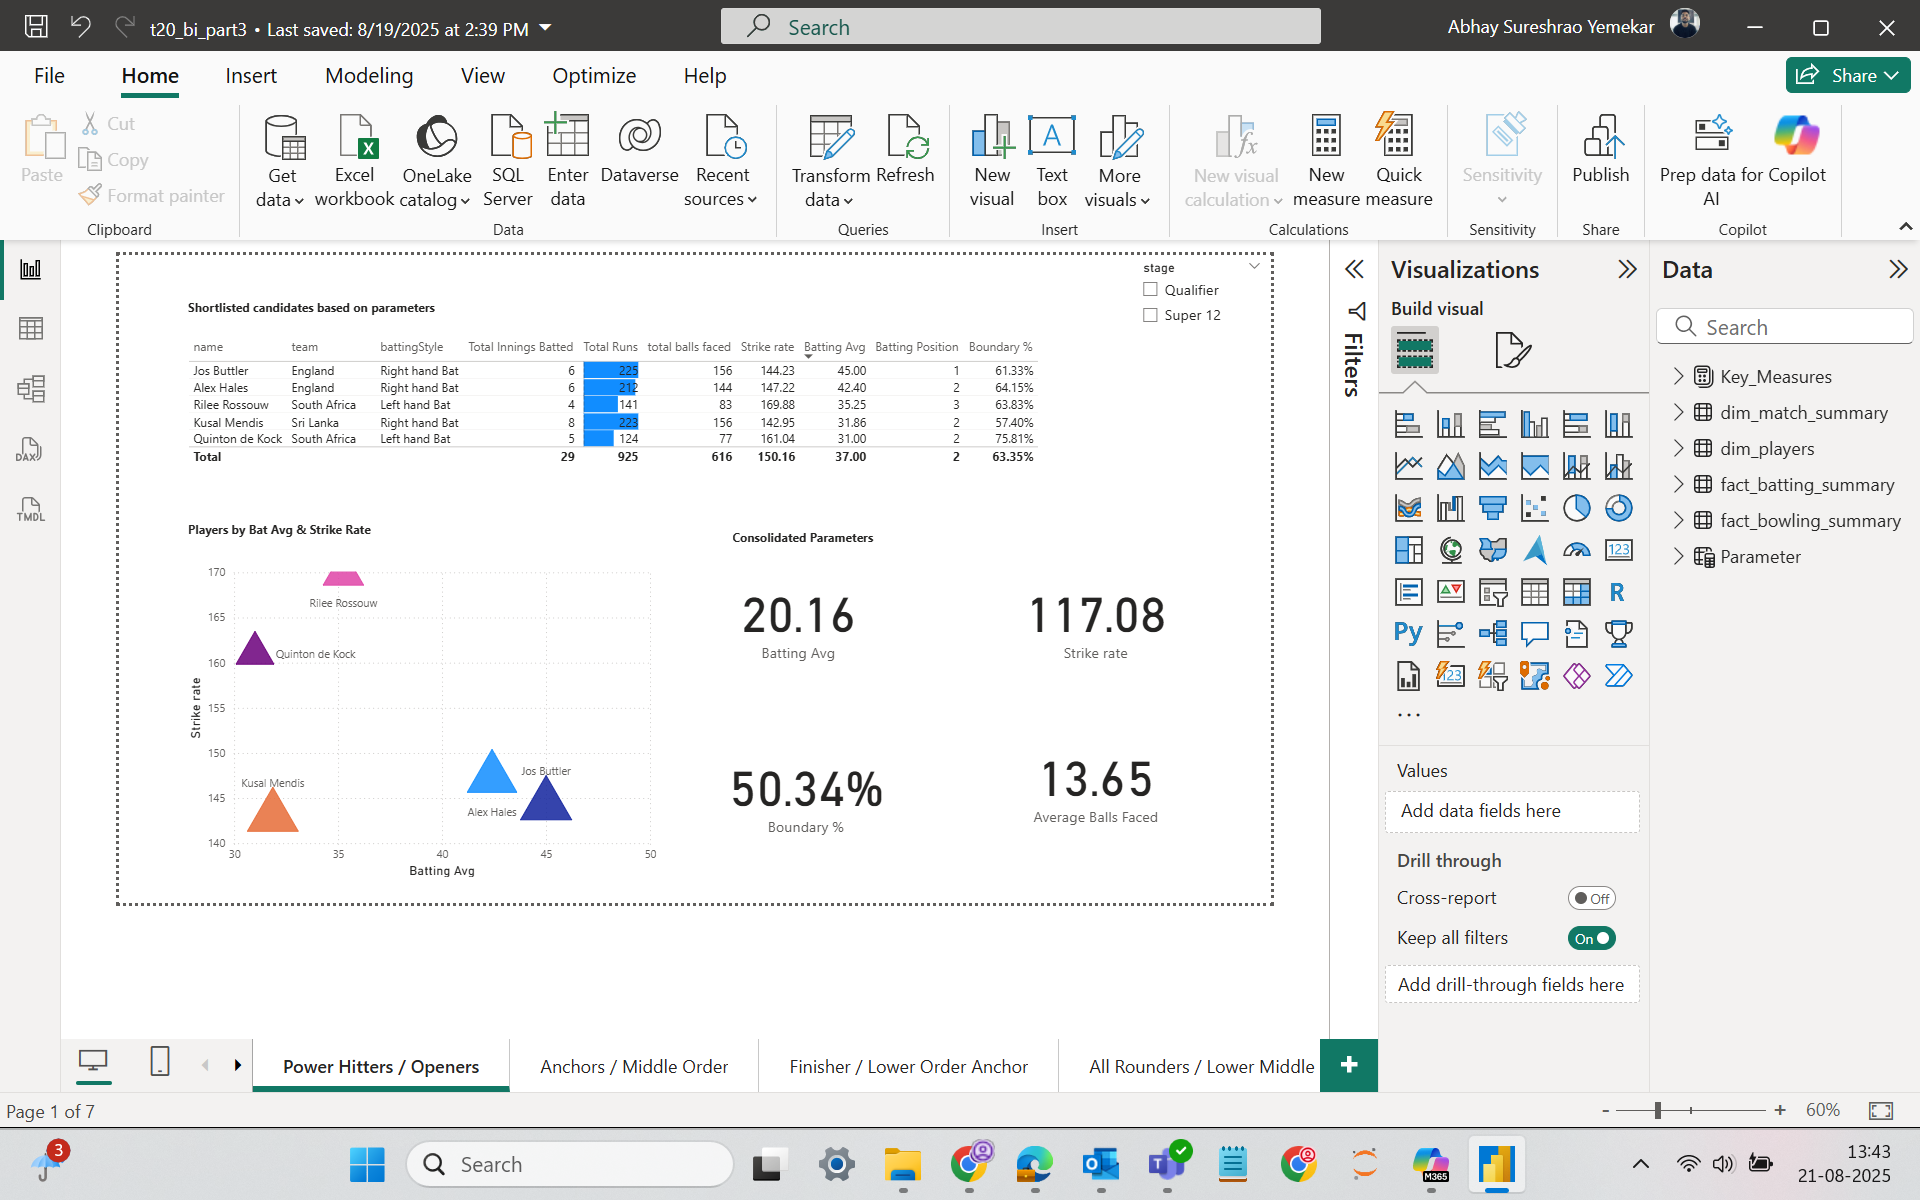

The page's visual inventory and layout, read from the dashboard file:
{"tool":"powerbi","page":{"name":"New Anchors / Middle Order","canvas":[1280,720],"ordinal":1},"visuals":[{"type":"shape","box":[0,66,1280,654],"z":0},{"type":"card","fields":{"Values":["Key_Measures.Strike rate"]},"box":[866.4,88.6,93,60],"z":0,"group":"g2"},{"type":"group","id":"g1","title":"Group 2","box":[83.8,116.2,260,31.2],"z":0,"group":"g3"},{"type":"shape","box":[83.8,116.2,260,31.2],"z":0,"group":"g1"},{"type":"card","fields":{"Values":["Key_Measures.Bat Avg"]},"box":[767.4,88.6,92,60],"z":1000,"group":"g2"},{"type":"image","box":[38,114,44,36],"z":1000,"group":"g3"},{"type":"shape","box":[20,414.4,832.2,283.3],"z":1000},{"type":"actionButton","box":[734,42.6,111,42],"z":2000},{"type":"card","fields":{"Values":["Key_Measures.Avergate Balls Faced"]},"box":[1063,90.3,110,56.7],"z":2000,"group":"g2"},{"type":"actionButton","box":[596,42.6,144,42],"z":3000},{"type":"card","fields":{"Values":["Key_Measures.Boundary %"]},"box":[965.4,88.6,101,60],"z":3000,"group":"g2"},{"type":"actionButton","box":[838,42.6,101,42],"z":4000},{"type":"actionButton","box":[932,42.6,115,42],"z":5000},{"type":"actionButton","box":[1039,42.6,171,42],"z":6000},{"type":"image","box":[1220,3,48,59],"z":7000},{"type":"areaChart","fields":{"Category":["dim_match_summary.Match_Date.Variation.Date Hierarchy.Day"],"Y":["Key_Measures.Boundary %"]},"box":[446,430,406,126],"z":9000},{"type":"shape","box":[860,414,397,284],"z":10000},{"type":"areaChart","fields":{"Category":["dim_match_summary.Match_Date.Variation.Date Hierarchy.Day"],"Y":["Key_Measures.Avergate Balls Faced"]},"box":[446,556,406,126],"z":11000},{"type":"areaChart","fields":{"Category":["dim_match_summary.Match_Date.Variation.Date Hierarchy.Day"],"Y":["Key_Measures.Bat Avg"]},"box":[40,428.9,395.6,126.7],"z":12000},{"type":"areaChart","fields":{"Category":["dim_match_summary.Match_Date.Variation.Date Hierarchy.Day"],"Y":["Key_Measures.Strike rate"]},"box":[40,555.6,396.7,125.6],"z":13000},{"type":"shape","box":[20,102.2,1236.7,304.4],"z":14000},{"type":"slicer","fields":{"Values":["dim_match_summary.stage"]},"box":[366.7,111.1,191.1,38.9],"z":15000},{"type":"shape","box":[572,88,622,63],"z":16000},{"type":"shape","box":[590.4,101.6,173,34],"z":17000},{"type":"group","id":"g2","title":"Combined Perfoamce Metrices","box":[767.4,88.6,405.6,60],"z":18000},{"type":"group","id":"g3","title":"Group 1","box":[38,114,305.8,36],"z":19000},{"type":"tableEx","fields":{"Values":["dim_player.name","dim_player.team","dim_player.Batting Style","Key_Measures.Total Matches","Key_Measures.Total Runs","Key_Measures.total balls faced","Key_Measures.Strike rate","Key_Measures.Bat Avg","Key_Measures.Batting Position","Key_Measures.Boundary %"]},"box":[26,151,1231,255],"z":20000},{"type":"scatterChart","fields":{"Y":["Key_Measures.Strike rate"],"Category":["dim_player.name"],"X":["Key_Measures.Bat Avg"],"Size":["Key_Measures.Total Runs"]},"box":[874,427,370,254],"z":21000},{"type":"actionButton","title":"Button Player Ana selected","box":[357,0,166,66],"z":22000},{"type":"actionButton","title":"Button Player Ana selected","box":[191,0,166,66],"z":23000},{"type":"shape","box":[608.6,100.9,560.6,36.3],"z":23501}]}

Visuals, with their boxes on the page's 1280x720 design canvas (x1, y1, x2, y2). These are canvas units, not pixel positions in the 1920x1200 screenshot, which may show the page scaled, cropped or inside an application window:
shape: (0, 66, 1280, 720)
card - Key_Measures.Strike rate: (866, 89, 959, 149)
"Group 2" group: (84, 116, 344, 147)
shape: (84, 116, 344, 147)
card - Key_Measures.Bat Avg: (767, 89, 859, 149)
image: (38, 114, 82, 150)
shape: (20, 414, 852, 698)
actionButton: (734, 43, 845, 85)
card - Key_Measures.Avergate Balls Faced: (1063, 90, 1173, 147)
actionButton: (596, 43, 740, 85)
card - Key_Measures.Boundary %: (965, 89, 1066, 149)
actionButton: (838, 43, 939, 85)
actionButton: (932, 43, 1047, 85)
actionButton: (1039, 43, 1210, 85)
image: (1220, 3, 1268, 62)
areaChart - dim_match_summary.Match_Date.Variation.Date Hierarchy.Day x Key_Measures.Boundary %: (446, 430, 852, 556)
shape: (860, 414, 1257, 698)
areaChart - dim_match_summary.Match_Date.Variation.Date Hierarchy.Day x Key_Measures.Avergate Balls Faced: (446, 556, 852, 682)
areaChart - dim_match_summary.Match_Date.Variation.Date Hierarchy.Day x Key_Measures.Bat Avg: (40, 429, 436, 556)
areaChart - dim_match_summary.Match_Date.Variation.Date Hierarchy.Day x Key_Measures.Strike rate: (40, 556, 437, 681)
shape: (20, 102, 1257, 407)
slicer - dim_match_summary.stage: (367, 111, 558, 150)
shape: (572, 88, 1194, 151)
shape: (590, 102, 763, 136)
"Combined Perfoamce Metrices" group: (767, 89, 1173, 149)
"Group 1" group: (38, 114, 344, 150)
tableEx - dim_player.name x dim_player.team: (26, 151, 1257, 406)
scatterChart - Key_Measures.Strike rate x dim_player.name: (874, 427, 1244, 681)
"Button Player Ana selected" actionButton: (357, 0, 523, 66)
"Button Player Ana selected" actionButton: (191, 0, 357, 66)
shape: (609, 101, 1169, 137)
